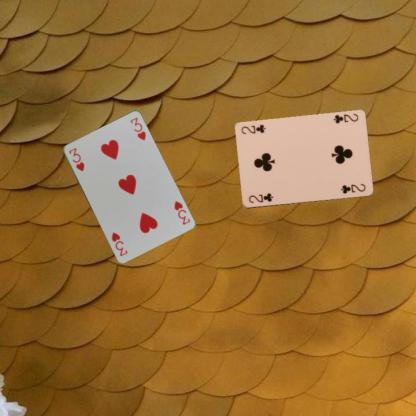2c: (246, 190, 274, 204), (331, 111, 359, 125)
3h: (171, 198, 191, 226), (66, 145, 85, 173)
